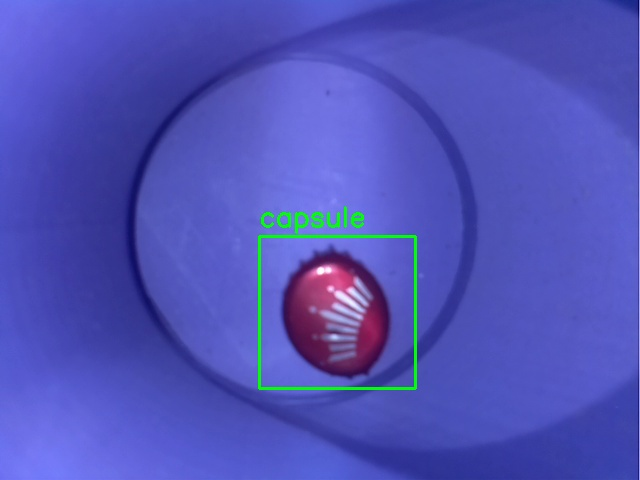capsule: (259, 236, 415, 388)
